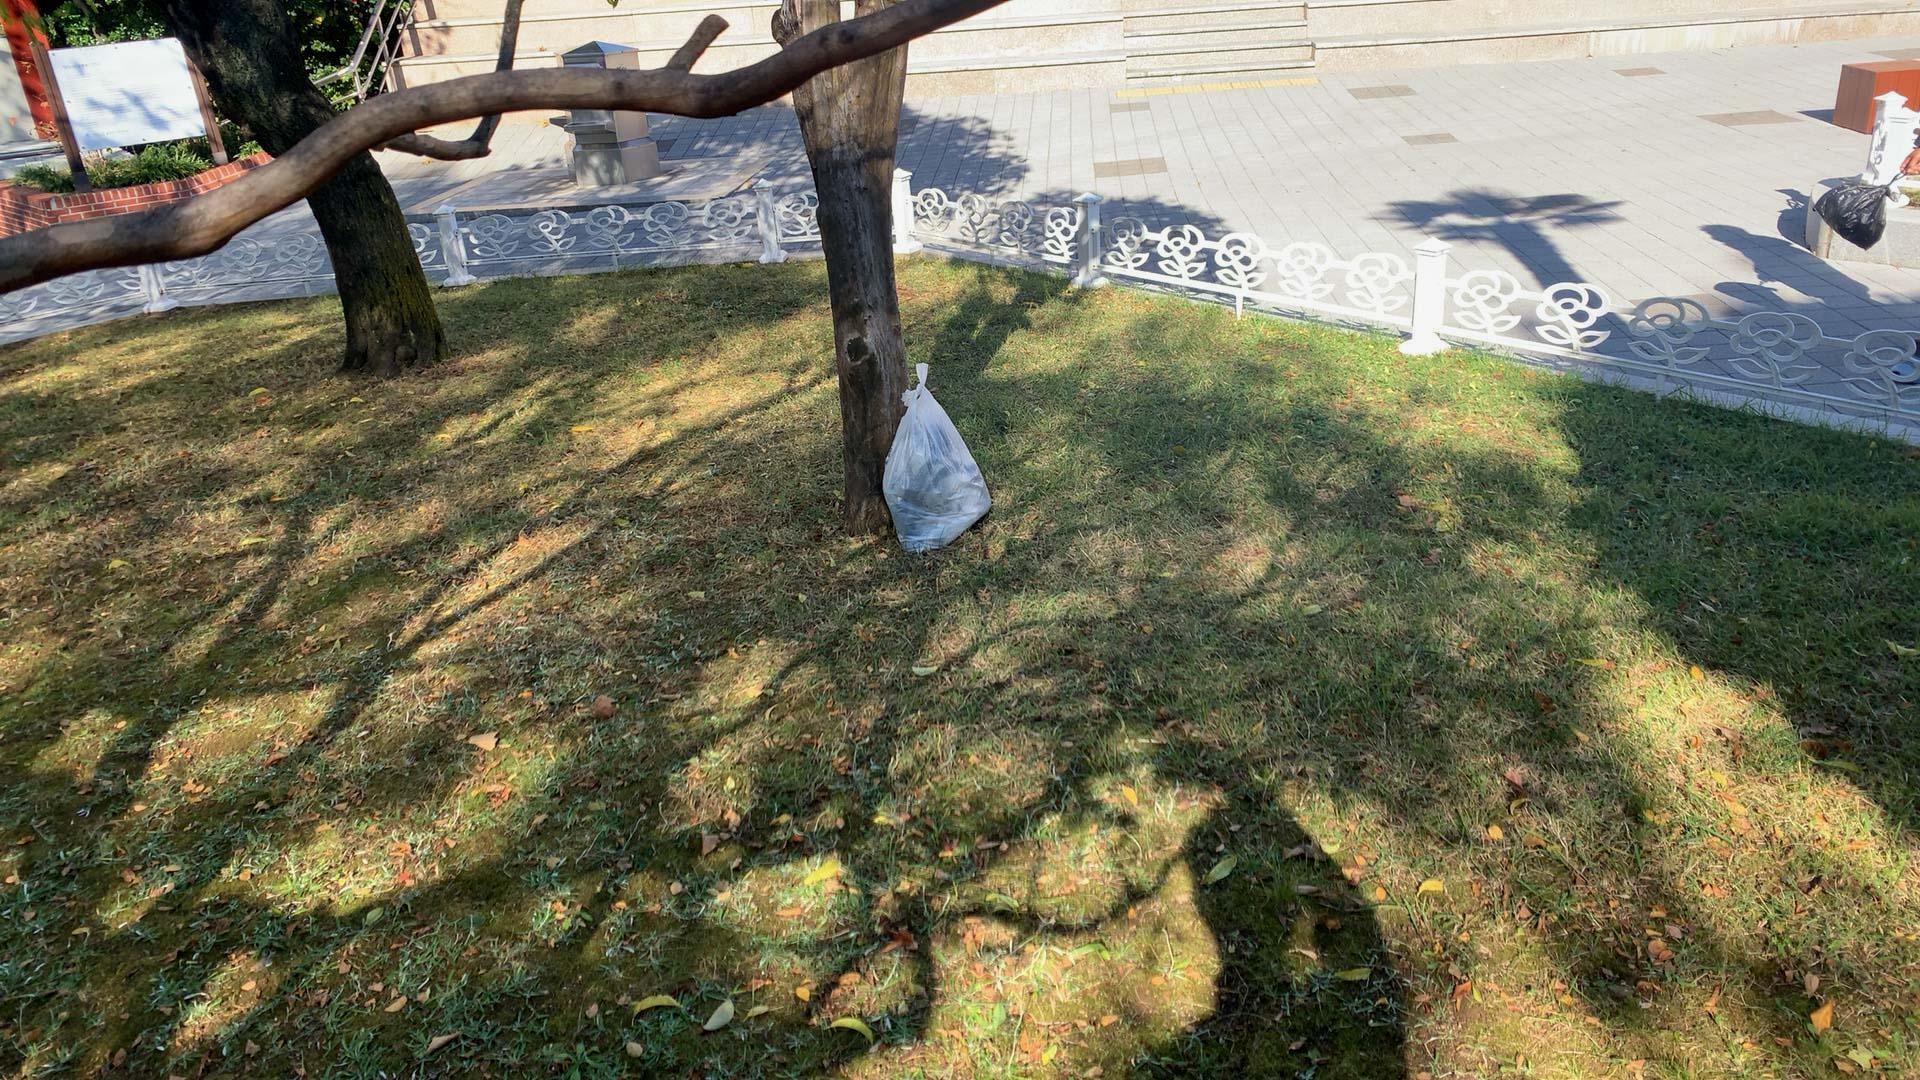white_bag: (865, 355, 1001, 549)
